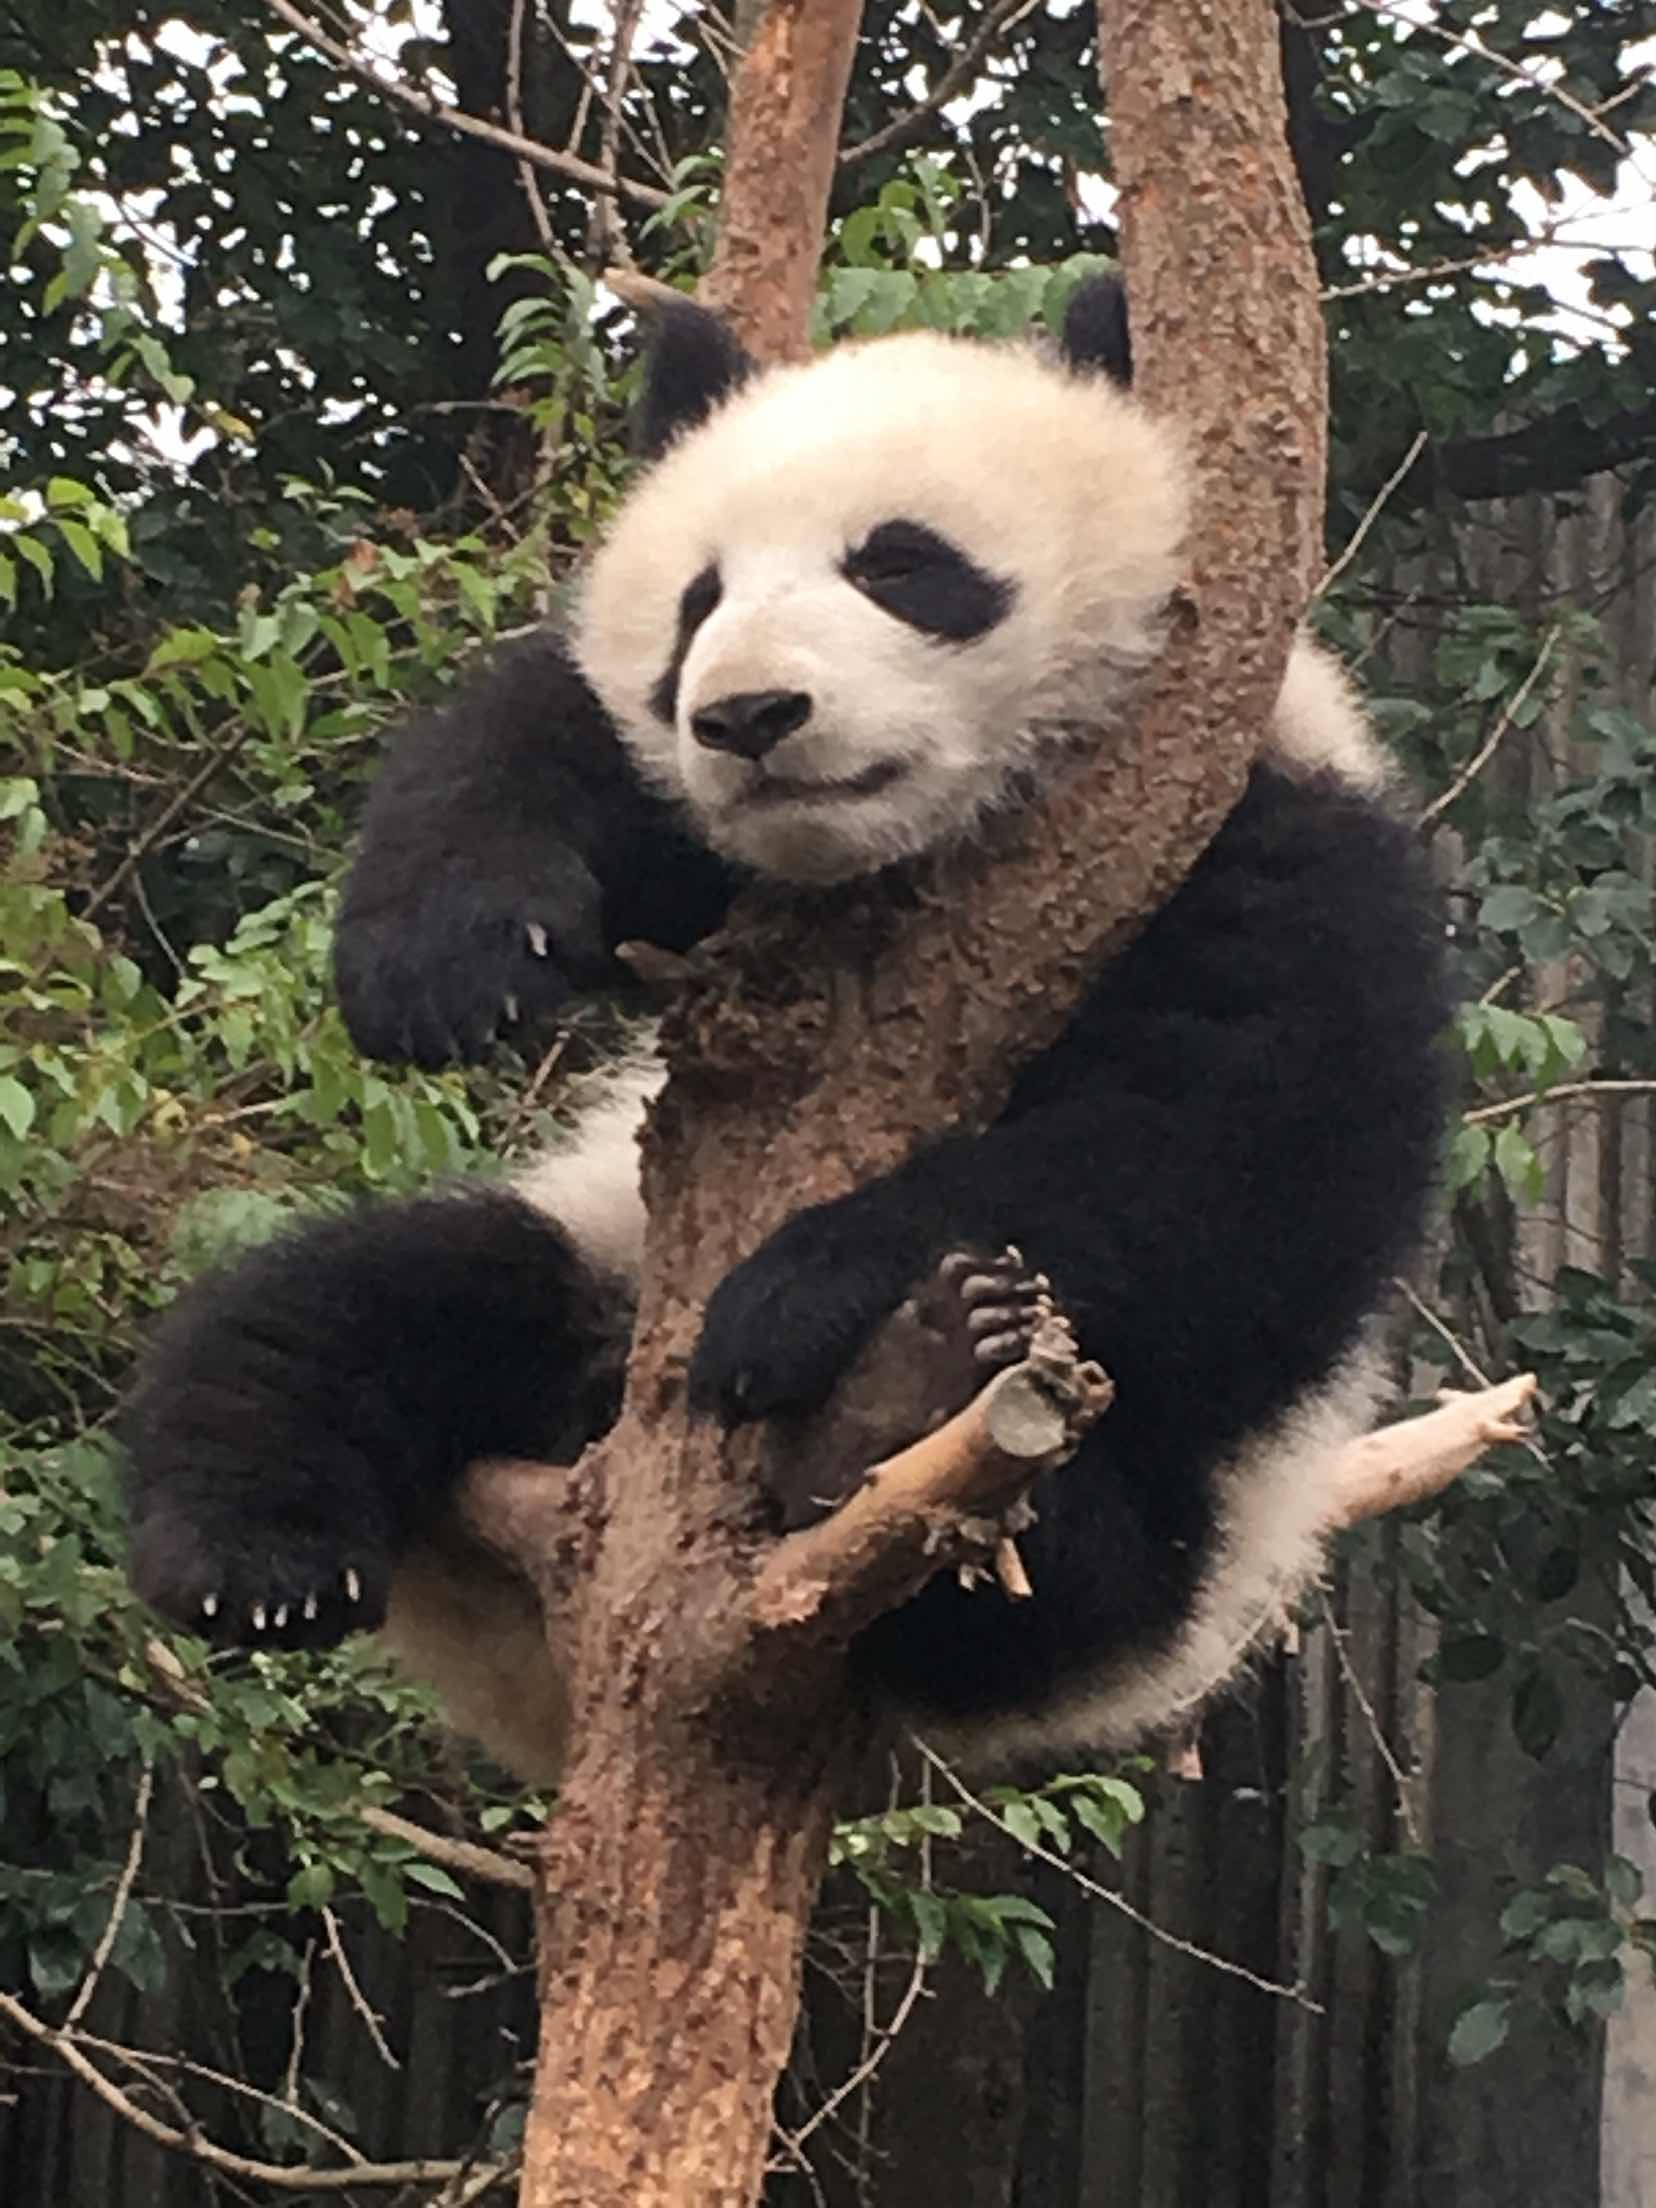panda: (97, 271, 1480, 1768)
